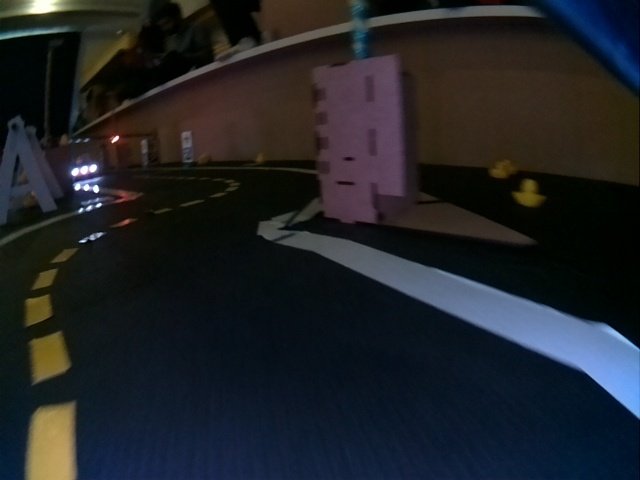Duckie: (517, 180, 543, 206), (490, 163, 507, 177), (503, 160, 514, 173), (255, 154, 263, 162)
